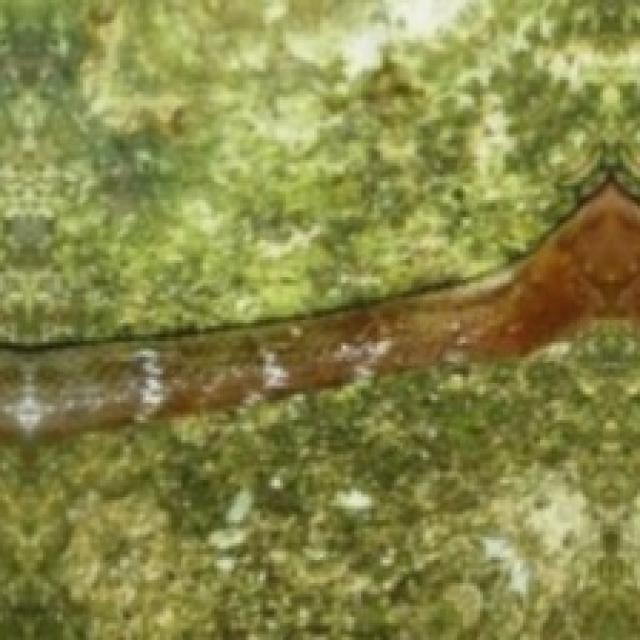reddish rat snake: (0, 180, 637, 434)
